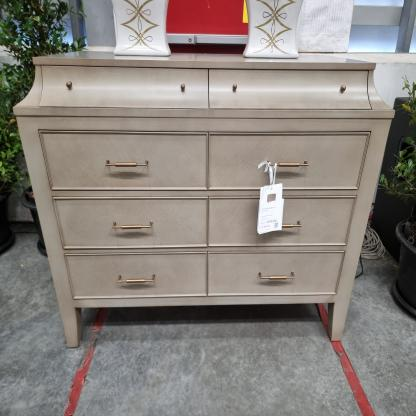Sideboard: (13, 25, 394, 349)
